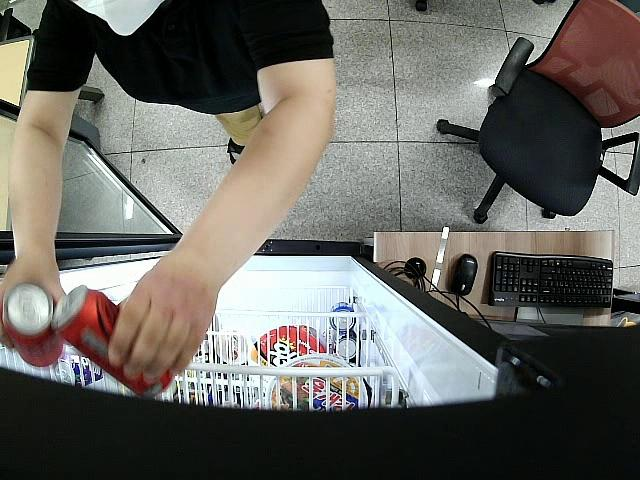00_hand: (108, 261, 218, 385), (0, 255, 68, 305)
11_cocaColaZero: (51, 285, 173, 399), (2, 279, 63, 366)
